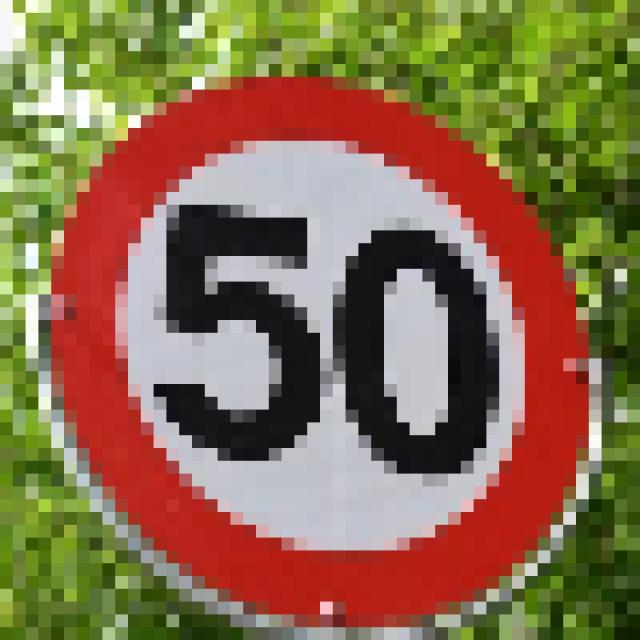Limite-50: (49, 74, 594, 625)
